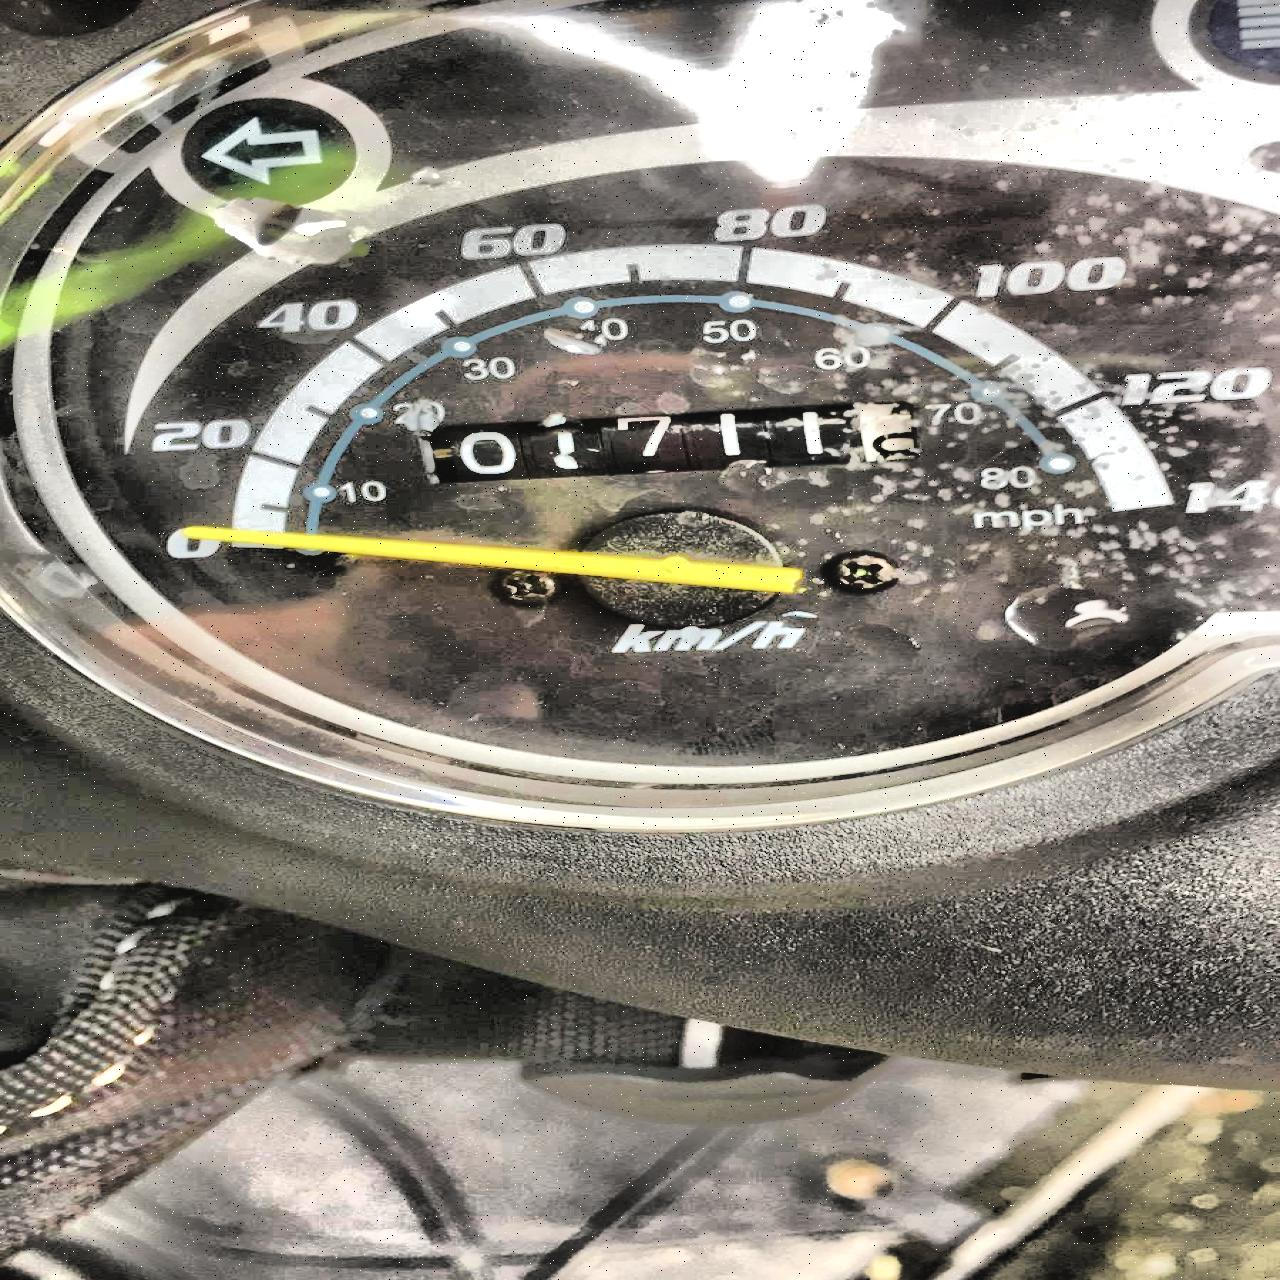0: (456, 427, 518, 475), (418, 400, 449, 424)
1: (791, 407, 837, 459), (710, 410, 747, 464), (550, 422, 583, 469)
7: (608, 411, 675, 463)
8: (873, 429, 921, 469)
odometer: (413, 400, 925, 482)
